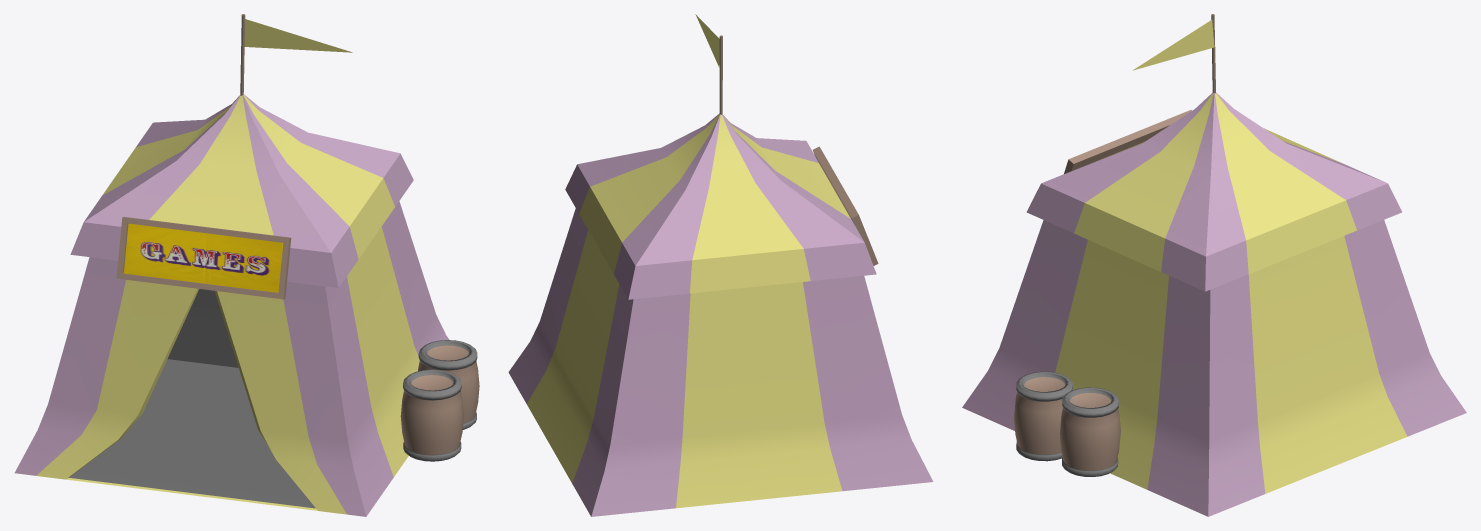
File: GamesTent.fbx
3 views of the same model, side by side, from view 1: azimuth 30°, elevation 25°; view 2: azimuth 150°, elevation 25°; view 3: azimuth 270°, elevation 25° (orthographic). The views are drawn at different scales.
Visible parts, largest first — view 1: tree:tree:polySurface17, pasted__pCylinder1, tree:pasted__pCylinder1; view 2: tree:tree:polySurface17; view 3: tree:tree:polySurface17, tree:pasted__pCylinder1, pasted__pCylinder1.
Boxes of the visible parts, left/top/right/bottom form: tree:tree:polySurface17: left=14, top=14, right=449, bottom=516; pasted__pCylinder1: left=400, top=369, right=463, bottom=461; tree:pasted__pCylinder1: left=418, top=340, right=479, bottom=429; tree:tree:polySurface17: left=508, top=14, right=933, bottom=516; tree:tree:polySurface17: left=962, top=14, right=1466, bottom=516; tree:pasted__pCylinder1: left=1059, top=387, right=1120, bottom=476; pasted__pCylinder1: left=1014, top=371, right=1072, bottom=461.
Size of the model in its own units: 431 by 373 by 431.
7 materials, 1 textured.
